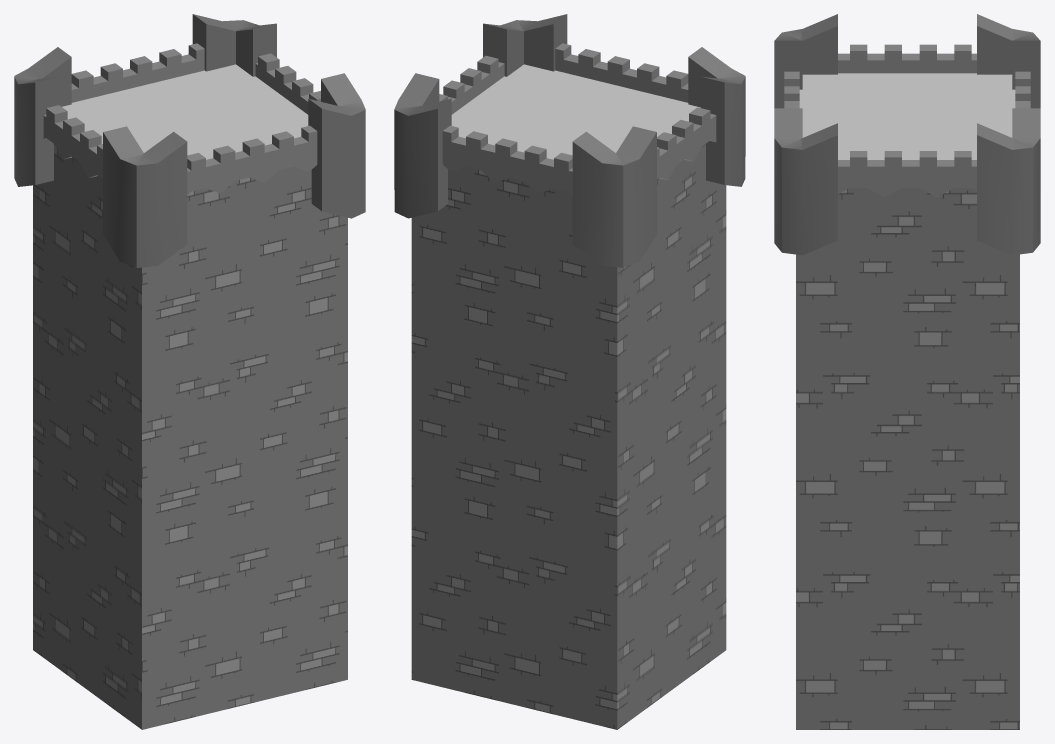
The model's file is Castle_Part_08.fbx.
3 views of the same model, side by side, from view 1: azimuth 30°, elevation 25°; view 2: azimuth 150°, elevation 25°; view 3: azimuth 270°, elevation 25° (orthographic). The views are drawn at different scales.
Visible parts, largest first — view 1: pCube2668; view 2: pCube2668; view 3: pCube2668.
Boxes of the visible parts, x1,y1,x2,y2 form: pCube2668: (14,14,365,729); pCube2668: (394,14,745,729); pCube2668: (774,14,1040,729).
Bounding box in the file's own units: 8.82 × 20.48 × 8.19.
